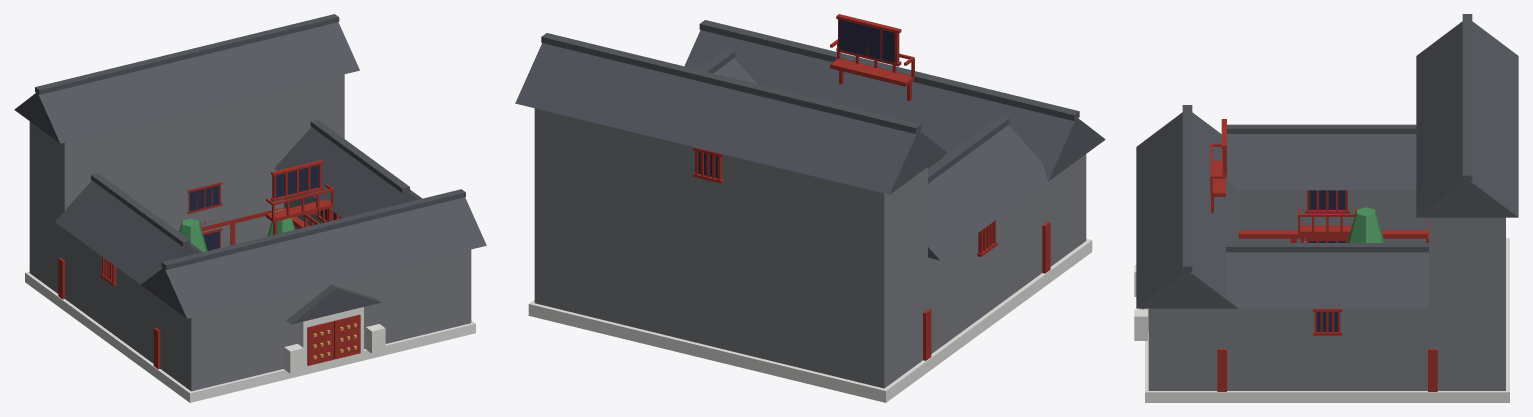
The model's file is house-2x2-4f-siheyuan-a.glb.
The picture shows the model from 3 angles, left to right: view 1: azimuth 30°, elevation 25°; view 2: azimuth 150°, elevation 25°; view 3: azimuth 270°, elevation 25°; orthographic projection. The views are drawn at different scales.
Parts seen in each view (by area): view 1: house-2x2-4f-siheyuan-a; view 2: house-2x2-4f-siheyuan-a; view 3: house-2x2-4f-siheyuan-a.
Part boxes in pixels (x1=…): house-2x2-4f-siheyuan-a: x1=14, y1=14, x2=486, y2=402; house-2x2-4f-siheyuan-a: x1=515, y1=14, x2=1105, y2=402; house-2x2-4f-siheyuan-a: x1=1134, y1=14, x2=1518, y2=402.
Size of the model in its own units: 1.98 by 1.32 by 1.99.
Materials: 1 (1 with a texture image).
